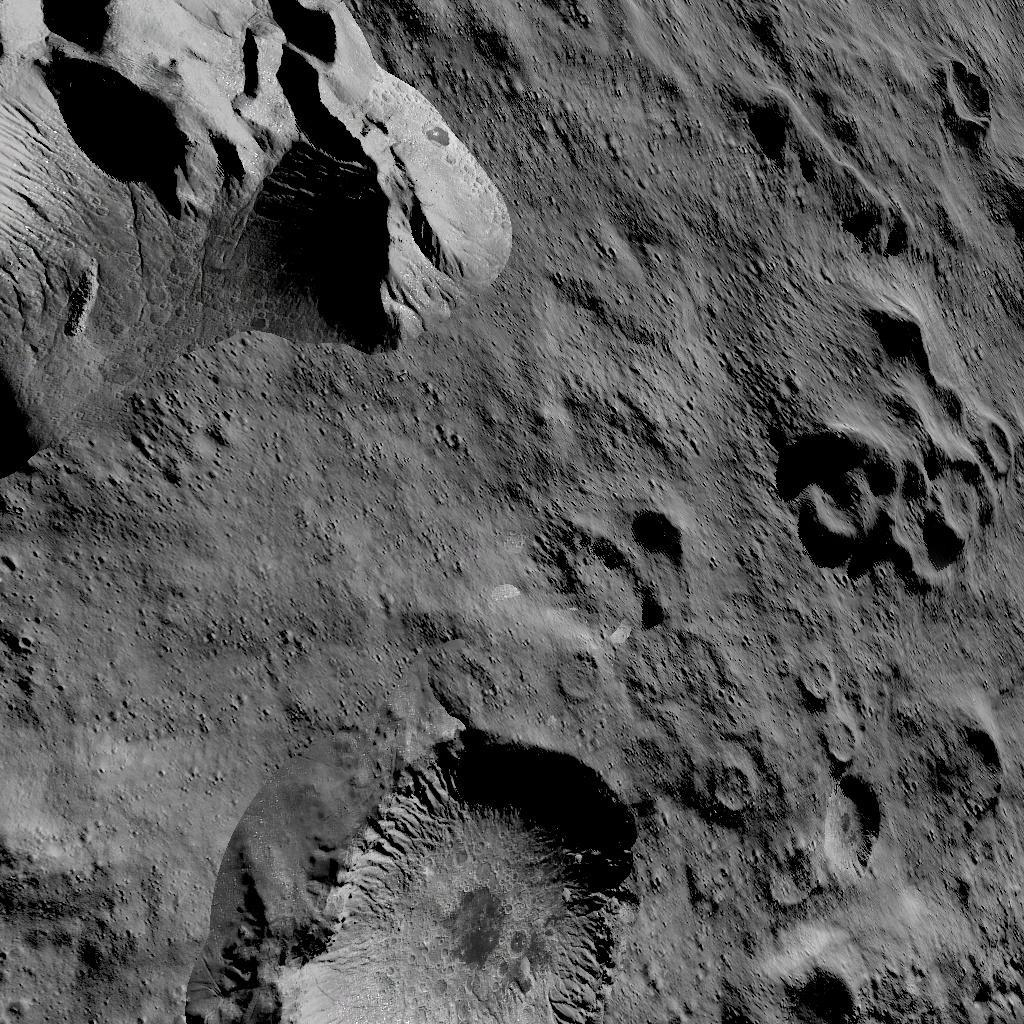Boulders: (0, 0, 525, 489)
Crater: (211, 720, 660, 1024), (784, 402, 1018, 602), (556, 513, 710, 630), (815, 774, 906, 887), (761, 962, 895, 1024), (796, 660, 871, 766), (939, 722, 1010, 814), (942, 43, 1011, 137), (708, 760, 768, 817), (552, 650, 612, 704)
Plan surface: (0, 500, 544, 706), (547, 0, 768, 504)
